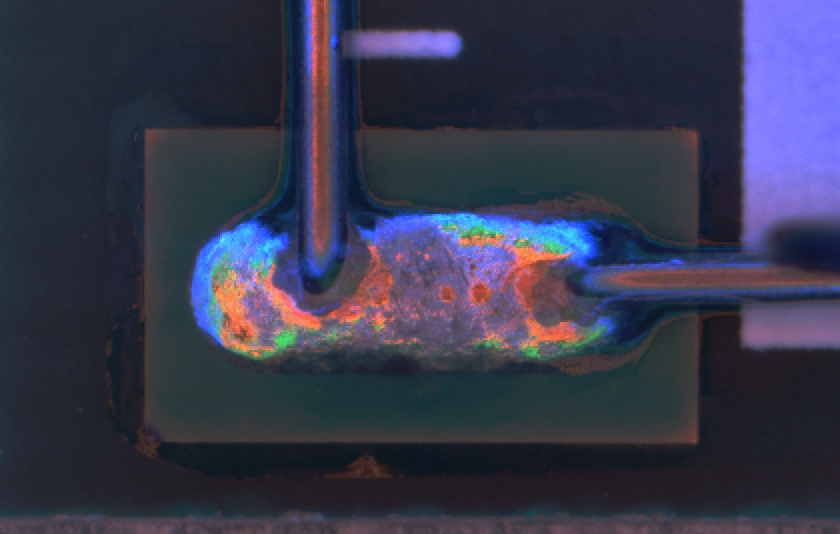spring: (282, 1, 357, 301), (561, 239, 839, 308)
spring_pin: (178, 207, 669, 374)
